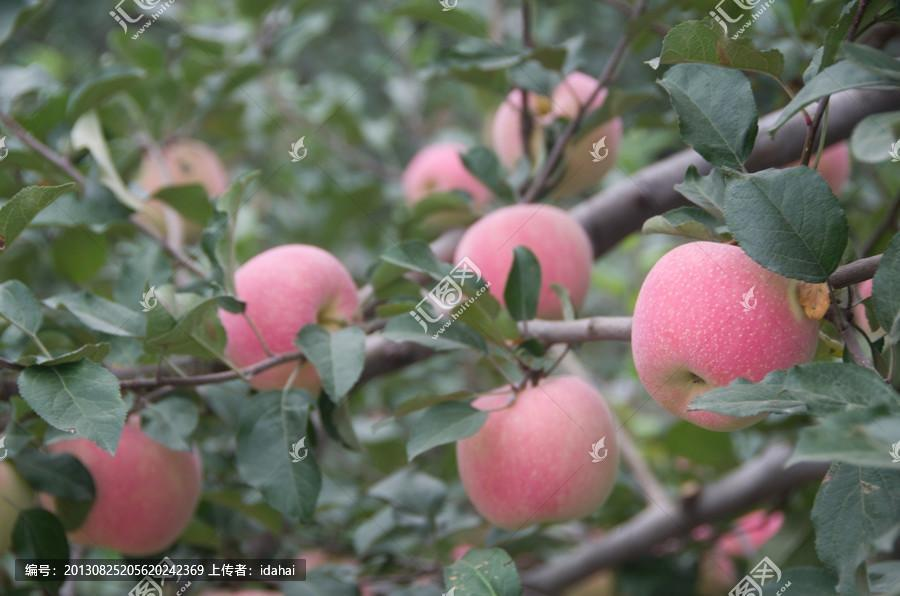apple: (629, 240, 824, 430), (456, 373, 622, 527), (220, 242, 362, 385)
